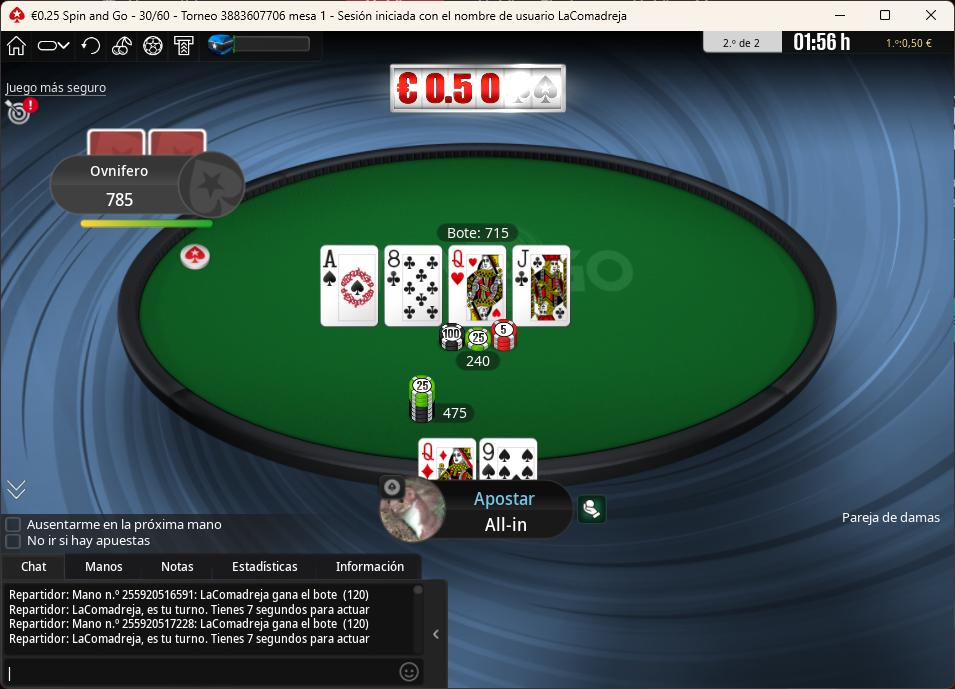Dealer: (182, 244, 215, 273)
HiddenCards: (86, 130, 213, 159)
Player: (49, 151, 244, 216)
PlayerChips: (105, 188, 140, 209)
Pot: (438, 223, 522, 242)
PrincipalBet: (402, 364, 480, 431)
PrincipalCards: (419, 437, 544, 485)
PrincipalCards1: (414, 436, 480, 483)
PrincipalCards2: (480, 436, 542, 482)
PrincipalPlayer: (370, 470, 569, 538)
ShowedCards: (318, 240, 575, 334)
ShowedCards1: (319, 246, 384, 332)
ShowedCards2: (384, 246, 446, 330)
ShowedCards3: (445, 244, 511, 329)
ShowedCards4: (511, 242, 574, 327)
SmallBigBlind: (129, 0, 181, 28)
TablePot: (434, 318, 531, 372)
